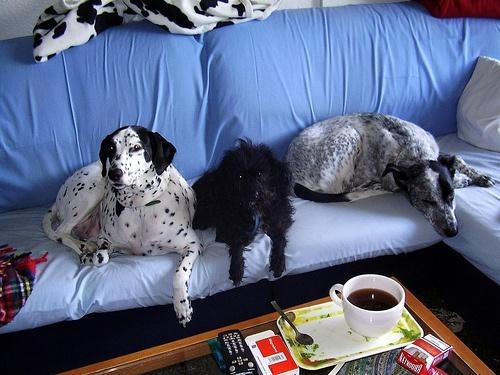dog: (42, 125, 203, 330), (283, 113, 496, 241), (195, 136, 295, 288)
sofa: (1, 2, 500, 337)
